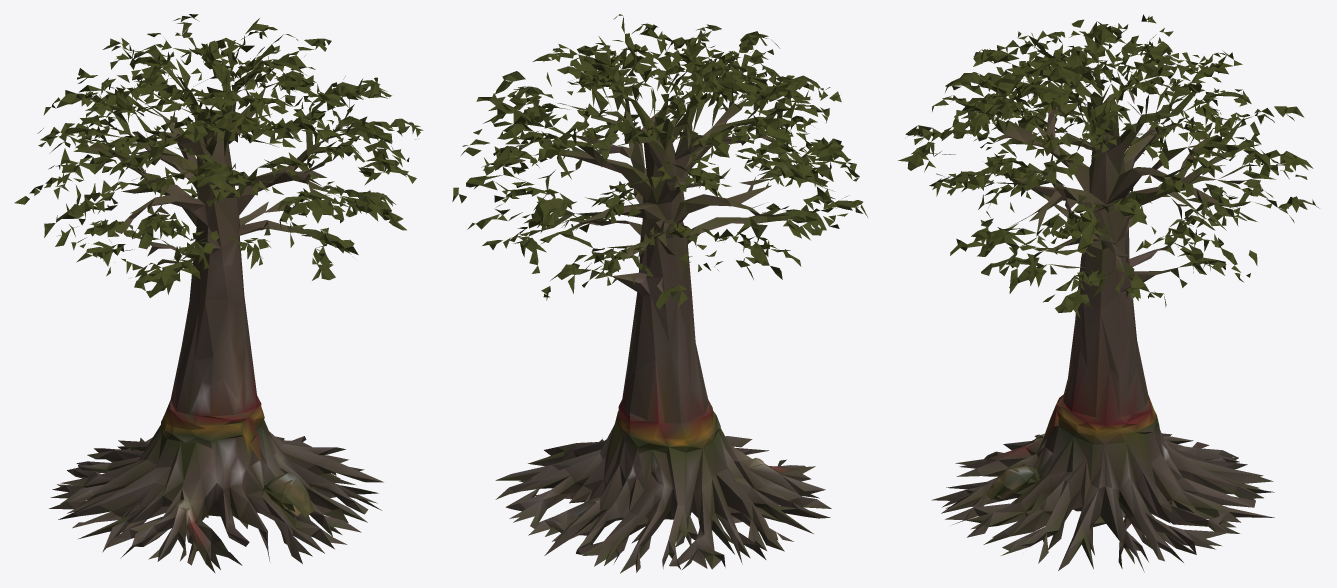
Rendered from lib_tp_da.vc.glb.
3 renders of one model, left to right at view 1: azimuth 30°, elevation 25°; view 2: azimuth 150°, elevation 25°; view 3: azimuth 270°, elevation 25°, orthographic.
Visible parts, largest first — view 1: lib_tp_da; view 2: lib_tp_da; view 3: lib_tp_da.
Boxes of the visible parts, x1,y1,x2,y2 form: lib_tp_da: (14, 14, 423, 573); lib_tp_da: (452, 14, 867, 573); lib_tp_da: (898, 14, 1319, 572).
Bounding box in the file's own units: 1.5 × 1.89 × 1.57.
